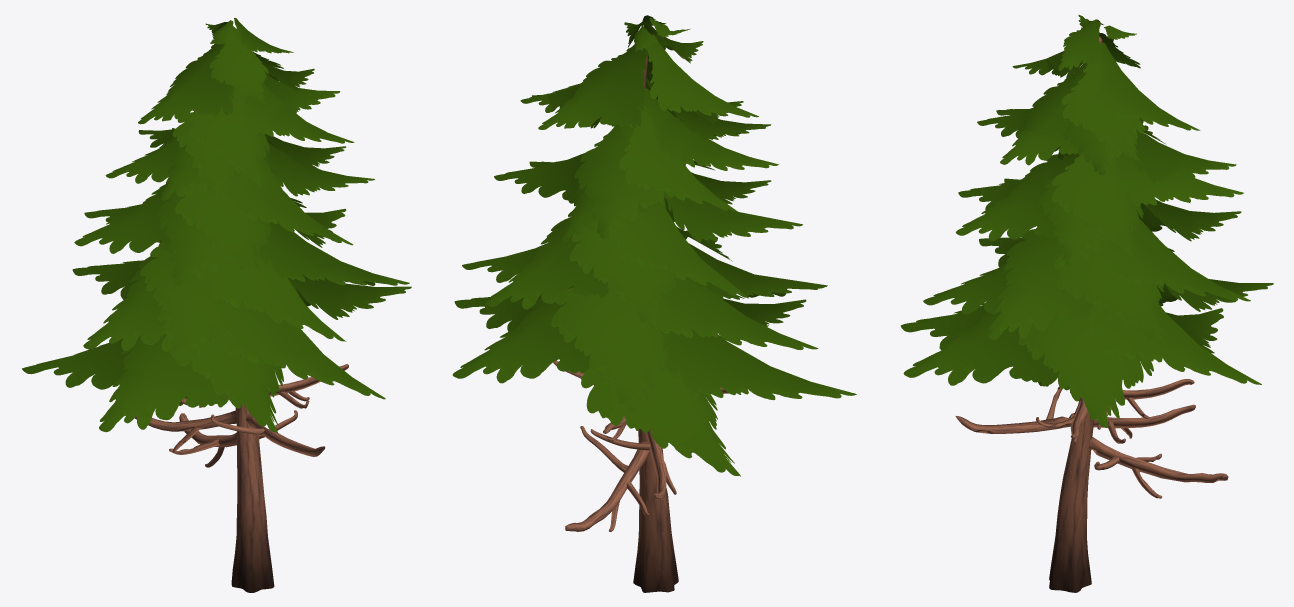
File: Pine_1.glb
3 renders of one model, left to right at view 1: azimuth 30°, elevation 25°; view 2: azimuth 150°, elevation 25°; view 3: azimuth 270°, elevation 25°, orthographic. The views are drawn at different scales.
Parts seen in each view (by area): view 1: Pine_1; view 2: Pine_1; view 3: Pine_1.
Part boxes in pixels (box(x1,y1,x2,y2)): Pine_1: box(22, 18, 411, 592); Pine_1: box(452, 15, 856, 592); Pine_1: box(900, 15, 1273, 592).
Size of the model in its own units: 4.94 by 7.32 by 4.54.
2 materials, 2 textured.
